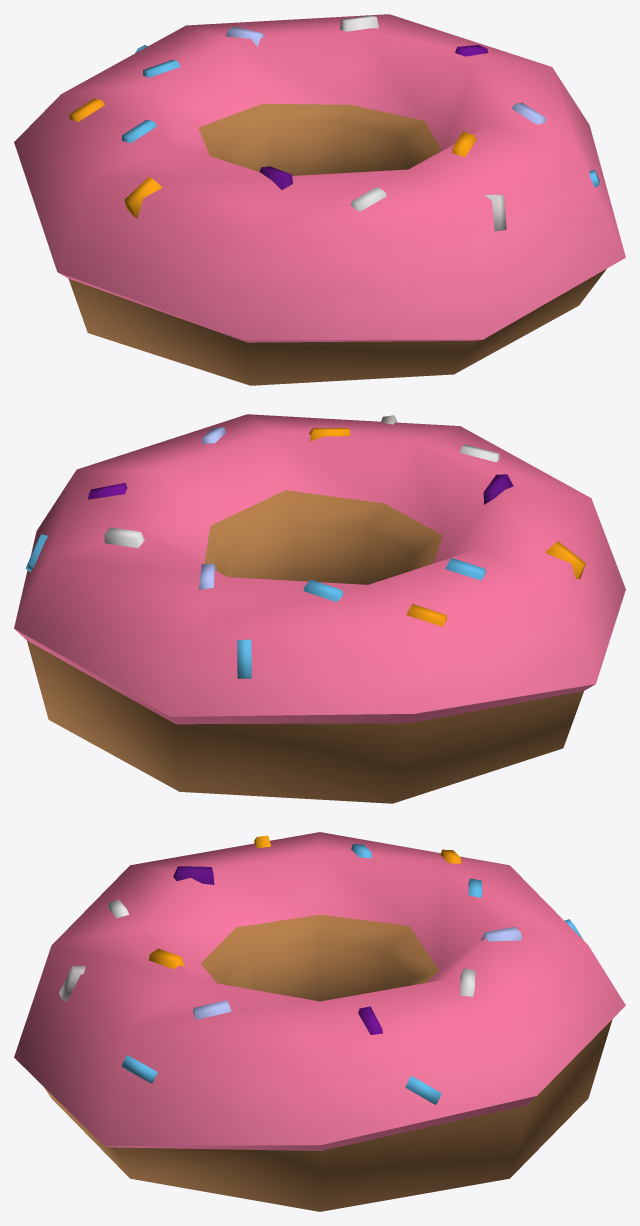
The picture shows the model from 3 angles, top to bottom: view 1: azimuth 30°, elevation 25°; view 2: azimuth 150°, elevation 25°; view 3: azimuth 270°, elevation 25°; orthographic projection. The views are drawn at different scales.
Parts seen in each view (by area): view 1: Torus.001; view 2: Torus.001; view 3: Torus.001.
Boxes of the visible parts, x1,y1,x2,y2 form: Torus.001: (14,14,625,385); Torus.001: (14,414,625,803); Torus.001: (14,832,625,1211).
Bounding box in the file's own units: 16.29 × 5.79 × 16.17.
